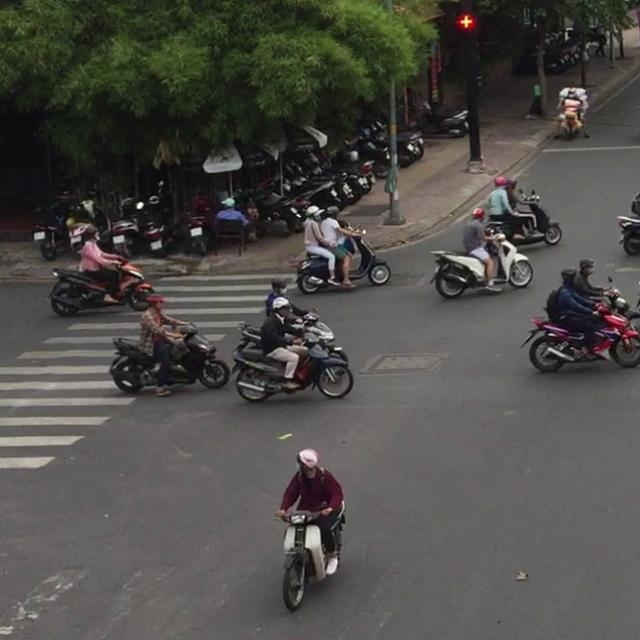motorcycle: (108, 321, 230, 394), (274, 498, 346, 612), (428, 226, 533, 299), (292, 224, 392, 294), (46, 256, 155, 316), (480, 188, 562, 246)
